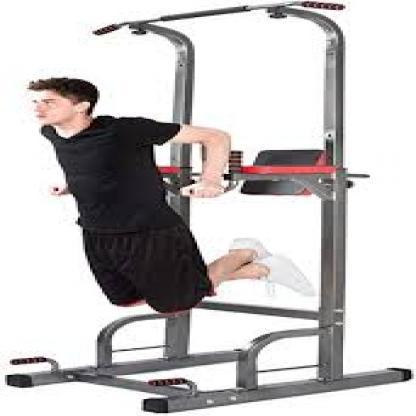chinning dipping: (6, 0, 363, 413)
